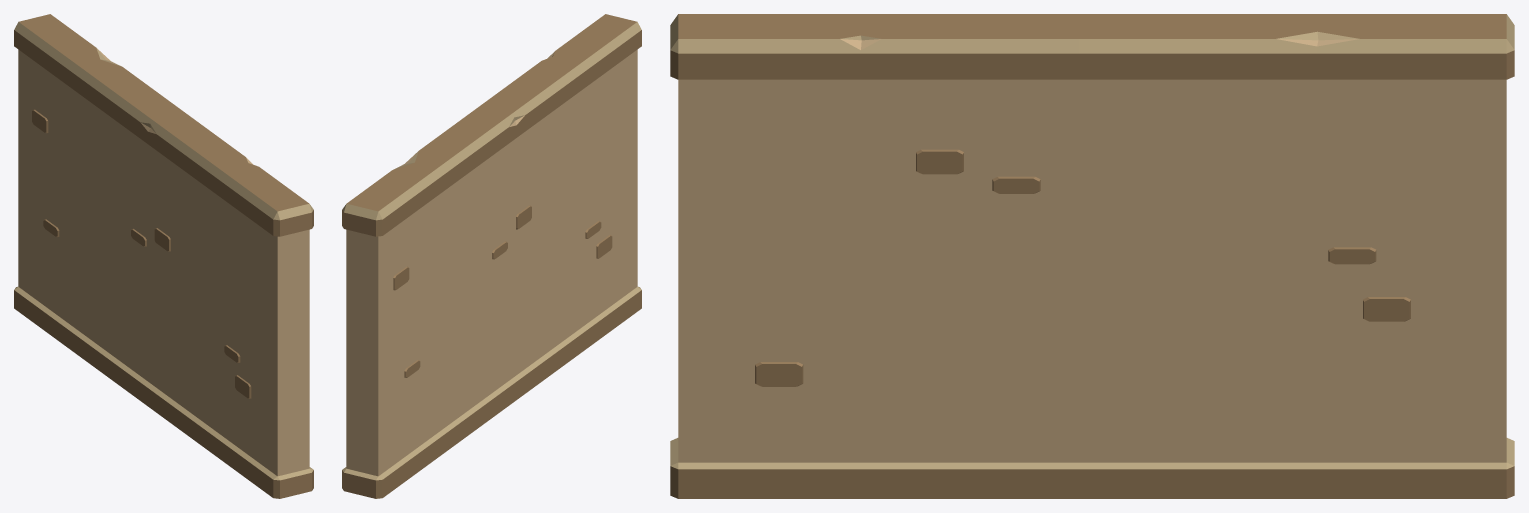
The model's file is FenceStoneTallMedium_01.glb.
3 views of the same model, side by side, from view 1: azimuth 30°, elevation 25°; view 2: azimuth 150°, elevation 25°; view 3: azimuth 270°, elevation 25° (orthographic). The views are drawn at different scales.
Visible parts, largest first — view 1: FenceStoneTallMedium_01; view 2: FenceStoneTallMedium_01; view 3: FenceStoneTallMedium_01.
Part boxes in pixels (x1=…): FenceStoneTallMedium_01: x1=14, y1=14, x2=313, y2=498; FenceStoneTallMedium_01: x1=342, y1=14, x2=641, y2=498; FenceStoneTallMedium_01: x1=670, y1=14, x2=1514, y2=498.
Size of what is drawn, in the model's own units: 0.2713 by 1.82 by 3.06.
1 material, 1 textured.
